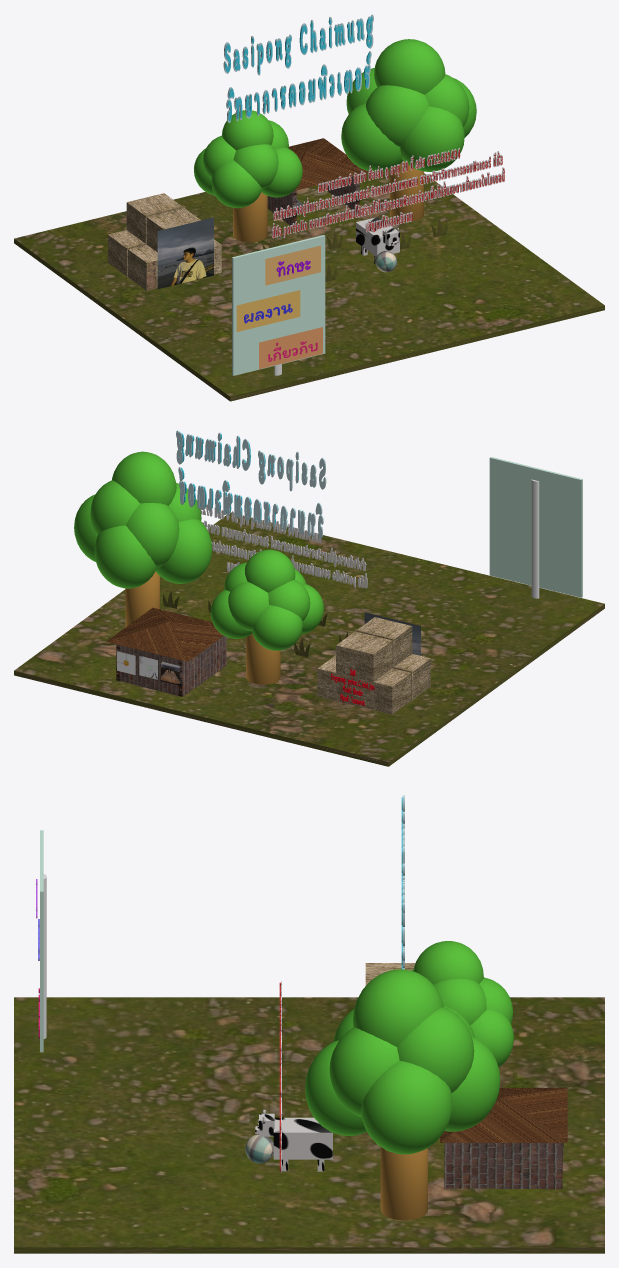
3 views of the same model, one above another, from view 1: azimuth 30°, elevation 25°; view 2: azimuth 150°, elevation 25°; view 3: azimuth 270°, elevation 25° (orthographic). The views are drawn at different scales.
Visible parts, largest first — view 1: Cube, Cylinder.001, Sphere.005, Plane.011, Text.006, Plane.001, Text002, Text, Pooh, Text.001, Plane.010, Plane.012 (+6 smaller); view 2: Cube, Cylinder.001, Plane.011, Sphere.005, Plane.001, Text.001, Text.006, Plane.010, Plane.008, Cylinder.002, Plane.009, Text (+4 smaller); view 3: Cube, Cylinder.001, Sphere.005, Plane.007, Plane.010, Cylinder, Cylinder.004, Plane.011, Sphere, Cylinder.003.
Boxes of the visible parts, bbox=[...] form: Cube: bbox=[14, 170, 604, 401]; Cylinder.001: bbox=[341, 39, 476, 171]; Sphere.005: bbox=[194, 110, 302, 208]; Plane.011: bbox=[232, 235, 325, 375]; Text.006: bbox=[271, 148, 504, 238]; Plane.001: bbox=[108, 193, 221, 290]; Text002: bbox=[272, 149, 504, 237]; Text: bbox=[225, 16, 372, 120]; Pooh: bbox=[157, 217, 213, 288]; Text.001: bbox=[223, 14, 373, 122]; Plane.010: bbox=[288, 138, 368, 190]; Plane.012: bbox=[259, 327, 322, 368]; Cube: bbox=[14, 512, 604, 766]; Cylinder.001: bbox=[74, 451, 212, 588]; Plane.011: bbox=[489, 457, 582, 597]; Sphere.005: bbox=[210, 549, 323, 650]; Plane.001: bbox=[317, 617, 430, 714]; Text.001: bbox=[176, 430, 326, 538]; Text.006: bbox=[200, 504, 367, 588]; Plane.010: bbox=[106, 607, 223, 661]; Plane.008: bbox=[178, 636, 226, 696]; Cylinder.002: bbox=[246, 633, 280, 684]; Plane.009: bbox=[120, 645, 178, 695]; Text: bbox=[179, 431, 314, 528]; Cube: bbox=[14, 997, 604, 1253]; Cylinder.001: bbox=[305, 969, 500, 1154]; Sphere.005: bbox=[411, 941, 513, 1067]; Plane.007: bbox=[444, 1143, 562, 1189]; Plane.010: bbox=[440, 1088, 567, 1142]; Cylinder: bbox=[380, 1147, 427, 1220]; Cylinder.004: bbox=[255, 1109, 332, 1171]; Plane.011: bbox=[40, 830, 43, 1052]; Sphere: bbox=[245, 1134, 273, 1163]; Cylinder.003: bbox=[43, 874, 46, 1038].
Bounding box in the file's own units: 0.1026 × 0.0573 × 0.1.
26 materials, 11 textured.
